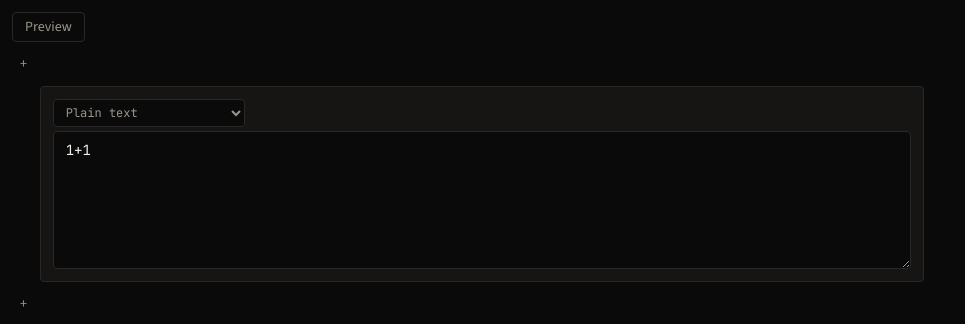
Test case: BlockEditor › preview runs blocks through highlightBlocksAction and renders the result
The image size is (965, 324).
Click the button "Preview": click(48, 27) 12,12 -> 85,42
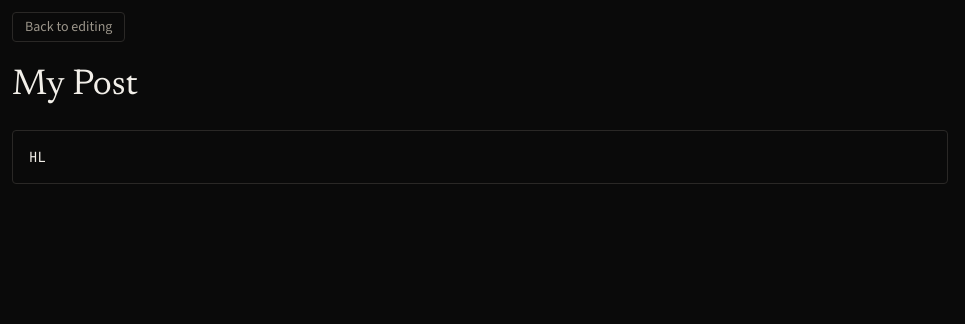
Now the text "HL" is shown, box 29,148 -> 46,166
